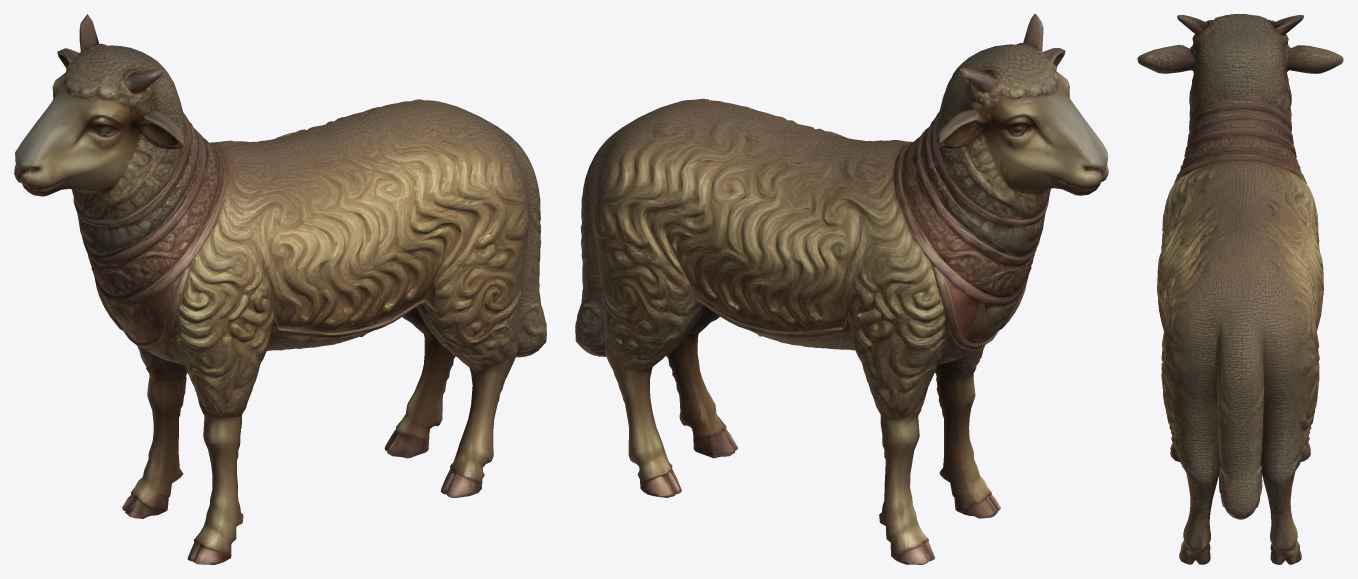
File: Lamb_VR_1K.glb
The picture shows the model from 3 angles, left to right: view 1: azimuth 30°, elevation 25°; view 2: azimuth 150°, elevation 25°; view 3: azimuth 270°, elevation 25°; orthographic projection. The views are drawn at different scales.
Parts seen in each view (by area): view 1: Lamb; view 2: Lamb; view 3: Lamb.
Part boxes in pixels (bbox=[...]): Lamb: bbox=[14, 14, 546, 564]; Lamb: bbox=[575, 14, 1108, 564]; Lamb: bbox=[1137, 14, 1343, 564].
Bounding box in the file's own units: 1.04 × 0.9573 × 0.4262.
Materials: 1 (1 with a texture image).
